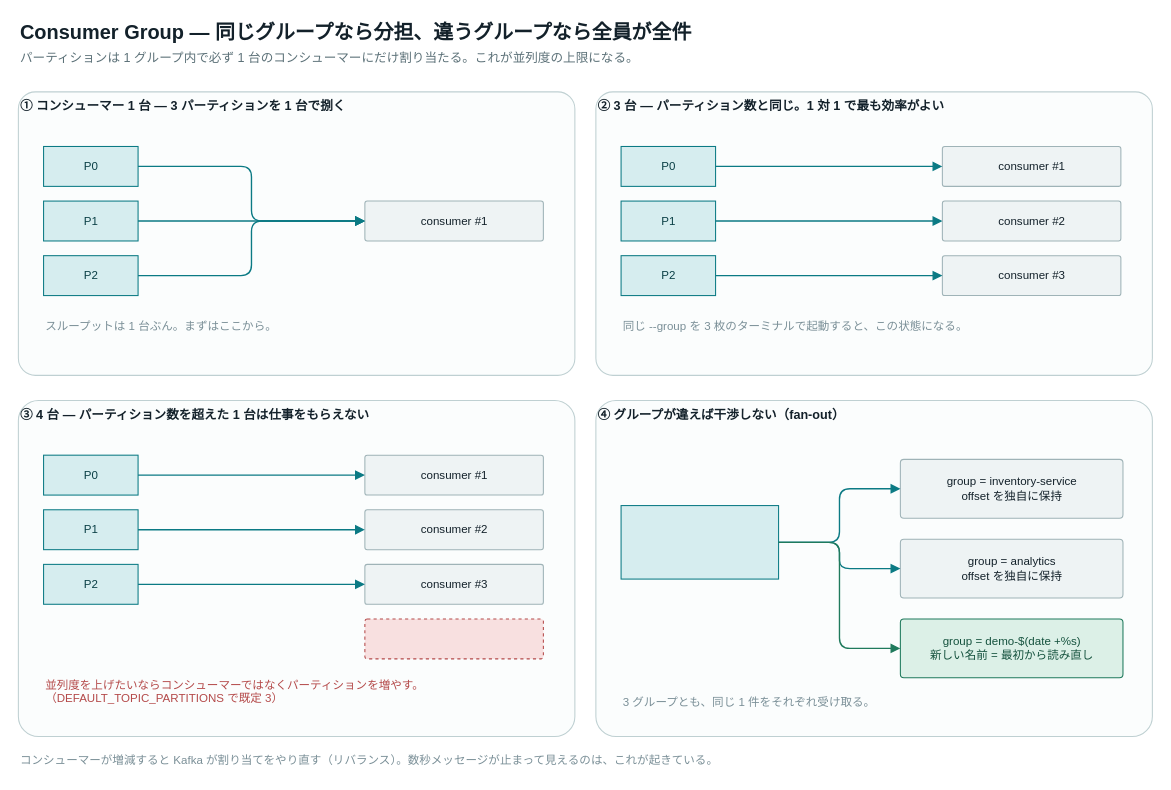
This 1171x790 diagram has some shape labels left out. The centre of each missing label's shape, as x and y in pixels:
"consumer #4 idle" belongs at (453,638).
"Topic: pubsub.orders.v1 P0 / P1 / P2" belongs at (699,542).
